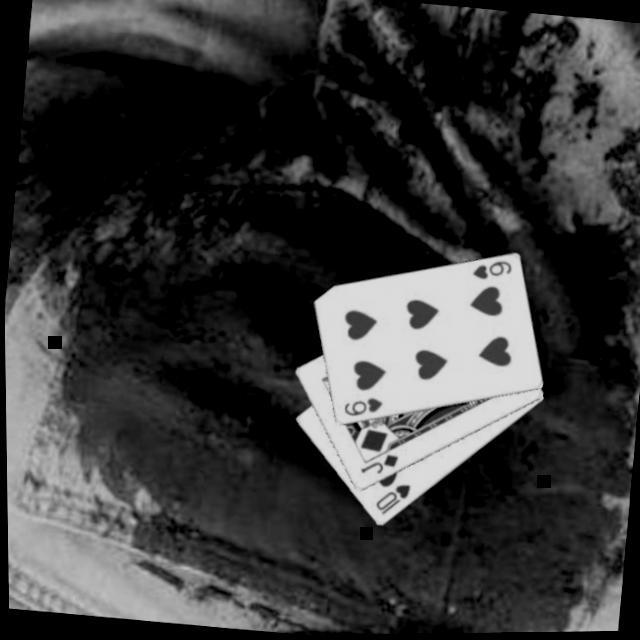10H: (372, 481, 414, 523)
6H: (340, 394, 386, 426), (469, 258, 515, 288)
JD: (356, 450, 402, 483)
